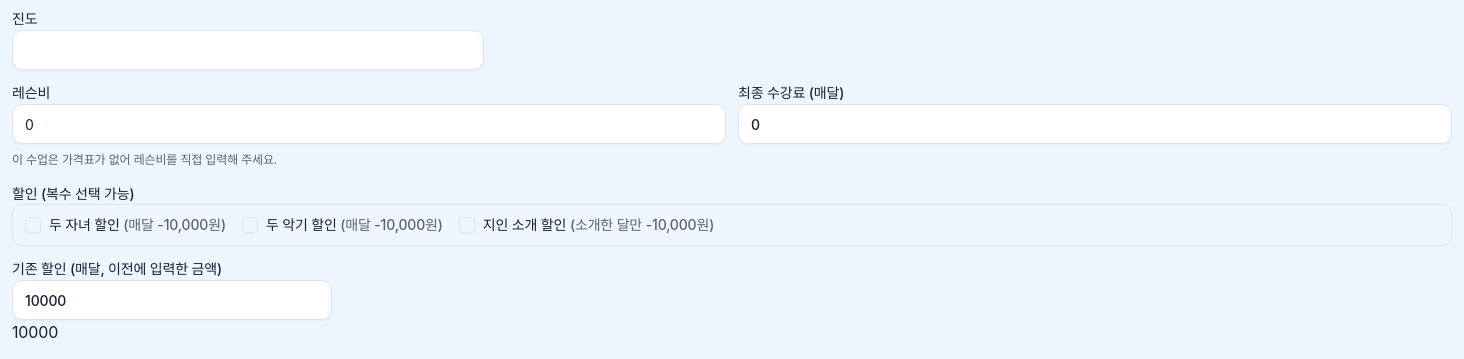
Scenario: StudentLessonFeeFields › 기존 할인액도 빈 입력을 유지하고 쉼표 금액을 해석한다
The width and height of the screenshot is (1464, 359).
Clear the field named "기존 할인액": (172, 300) left=12, top=280, right=332, bottom=320
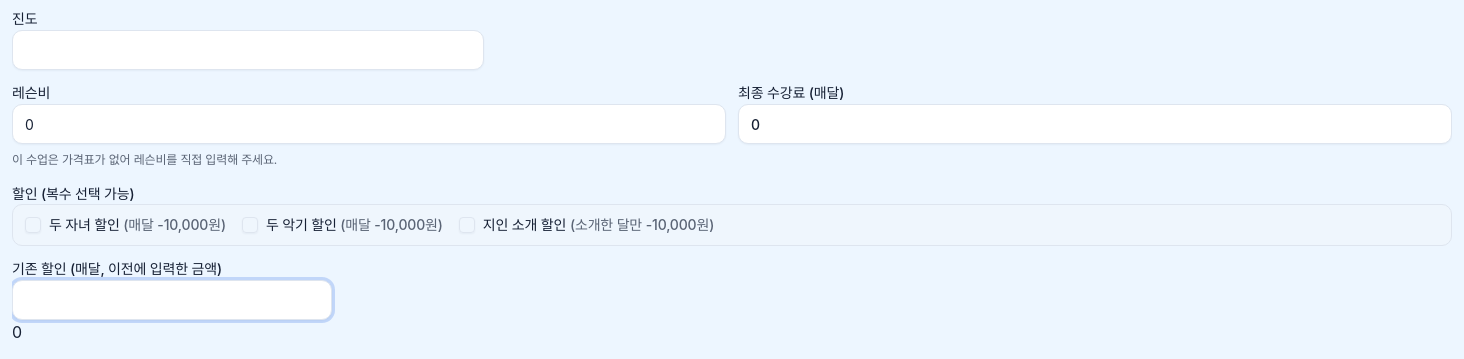
In the field named "기존 할인액": (172, 300) left=12, top=280, right=332, bottom=320, type "12,000"
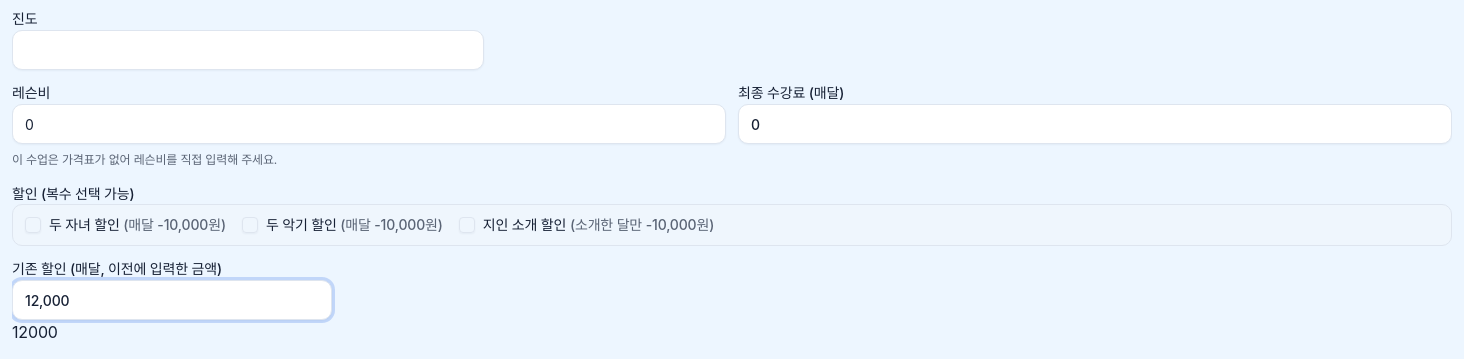
Now the text named "저장용 기존 할인액" reads "12000", box left=12, top=322, right=58, bottom=342
